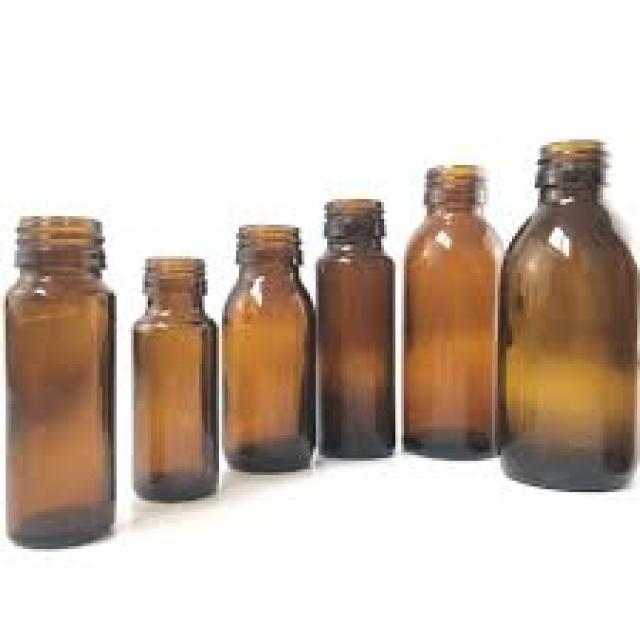glass: (492, 140, 634, 490), (0, 213, 114, 549), (398, 159, 498, 455), (219, 217, 310, 470), (128, 256, 213, 498), (313, 196, 392, 455)
